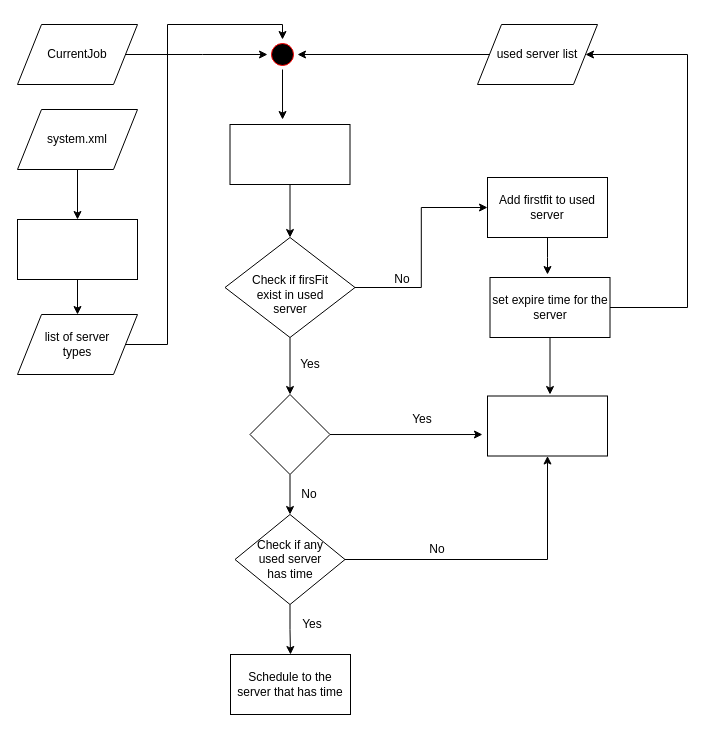
Image size: 713x732. Some labels were removed from this diagram. The shapes that lost their labels are listed below. From the top down, each one's centre as x and y in pixels, then its label:
pixel 289 154: get firstFit for currentJob
pixel 77 249: Parser
pixel 289 434: check if fits in time
pixel 547 425: Schedule to firstFit
